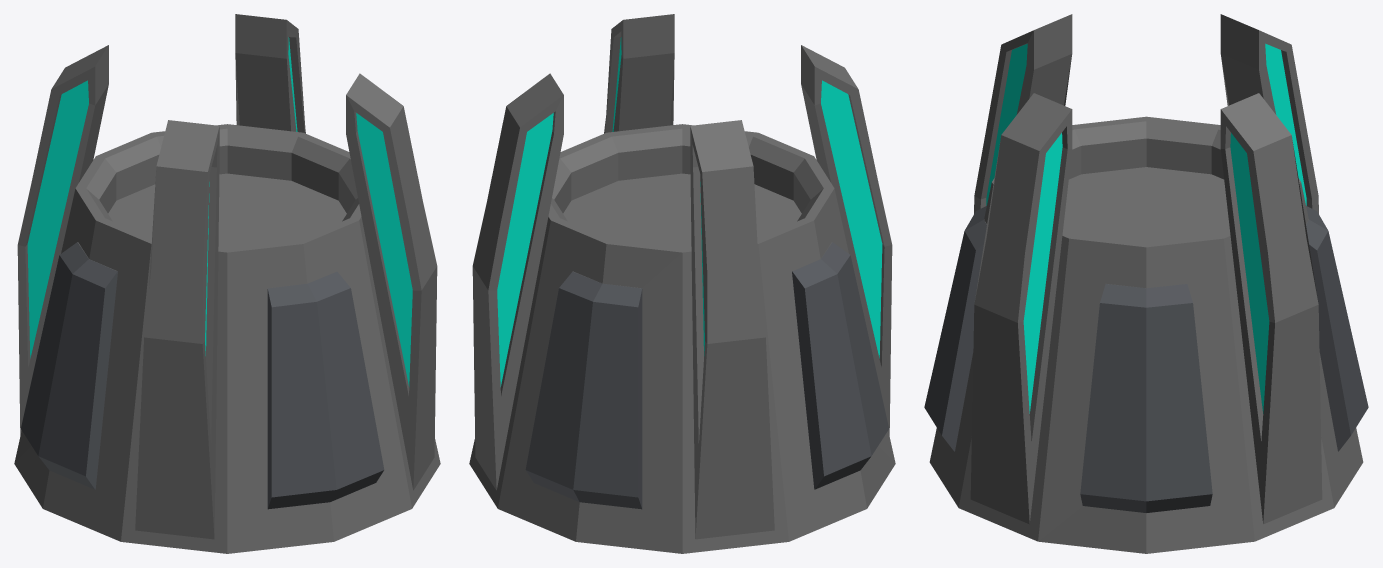
File: InfoStation.fbx
The picture shows the model from 3 angles, left to right: view 1: azimuth 30°, elevation 25°; view 2: azimuth 150°, elevation 25°; view 3: azimuth 270°, elevation 25°; orthographic projection.
Parts seen in each view (by area): view 1: InfoStation; view 2: InfoStation; view 3: InfoStation.
Part boxes in pixels (x1,y1,x2,y2): InfoStation: [14, 14, 440, 553]; InfoStation: [469, 14, 895, 553]; InfoStation: [924, 14, 1368, 553].
Size of the model in its own units: 86.21 by 85.79 by 86.21.
